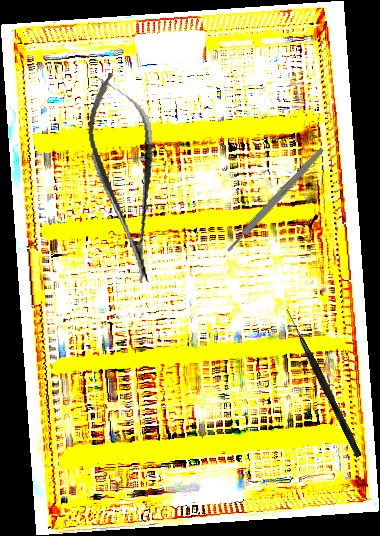Hook Surgical: (282, 308, 364, 458)
Micro Scissor: (79, 68, 173, 288)
Scalpel Handle: (224, 146, 326, 254)
